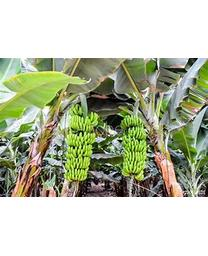banana: (64, 104, 99, 183), (120, 114, 147, 181)
